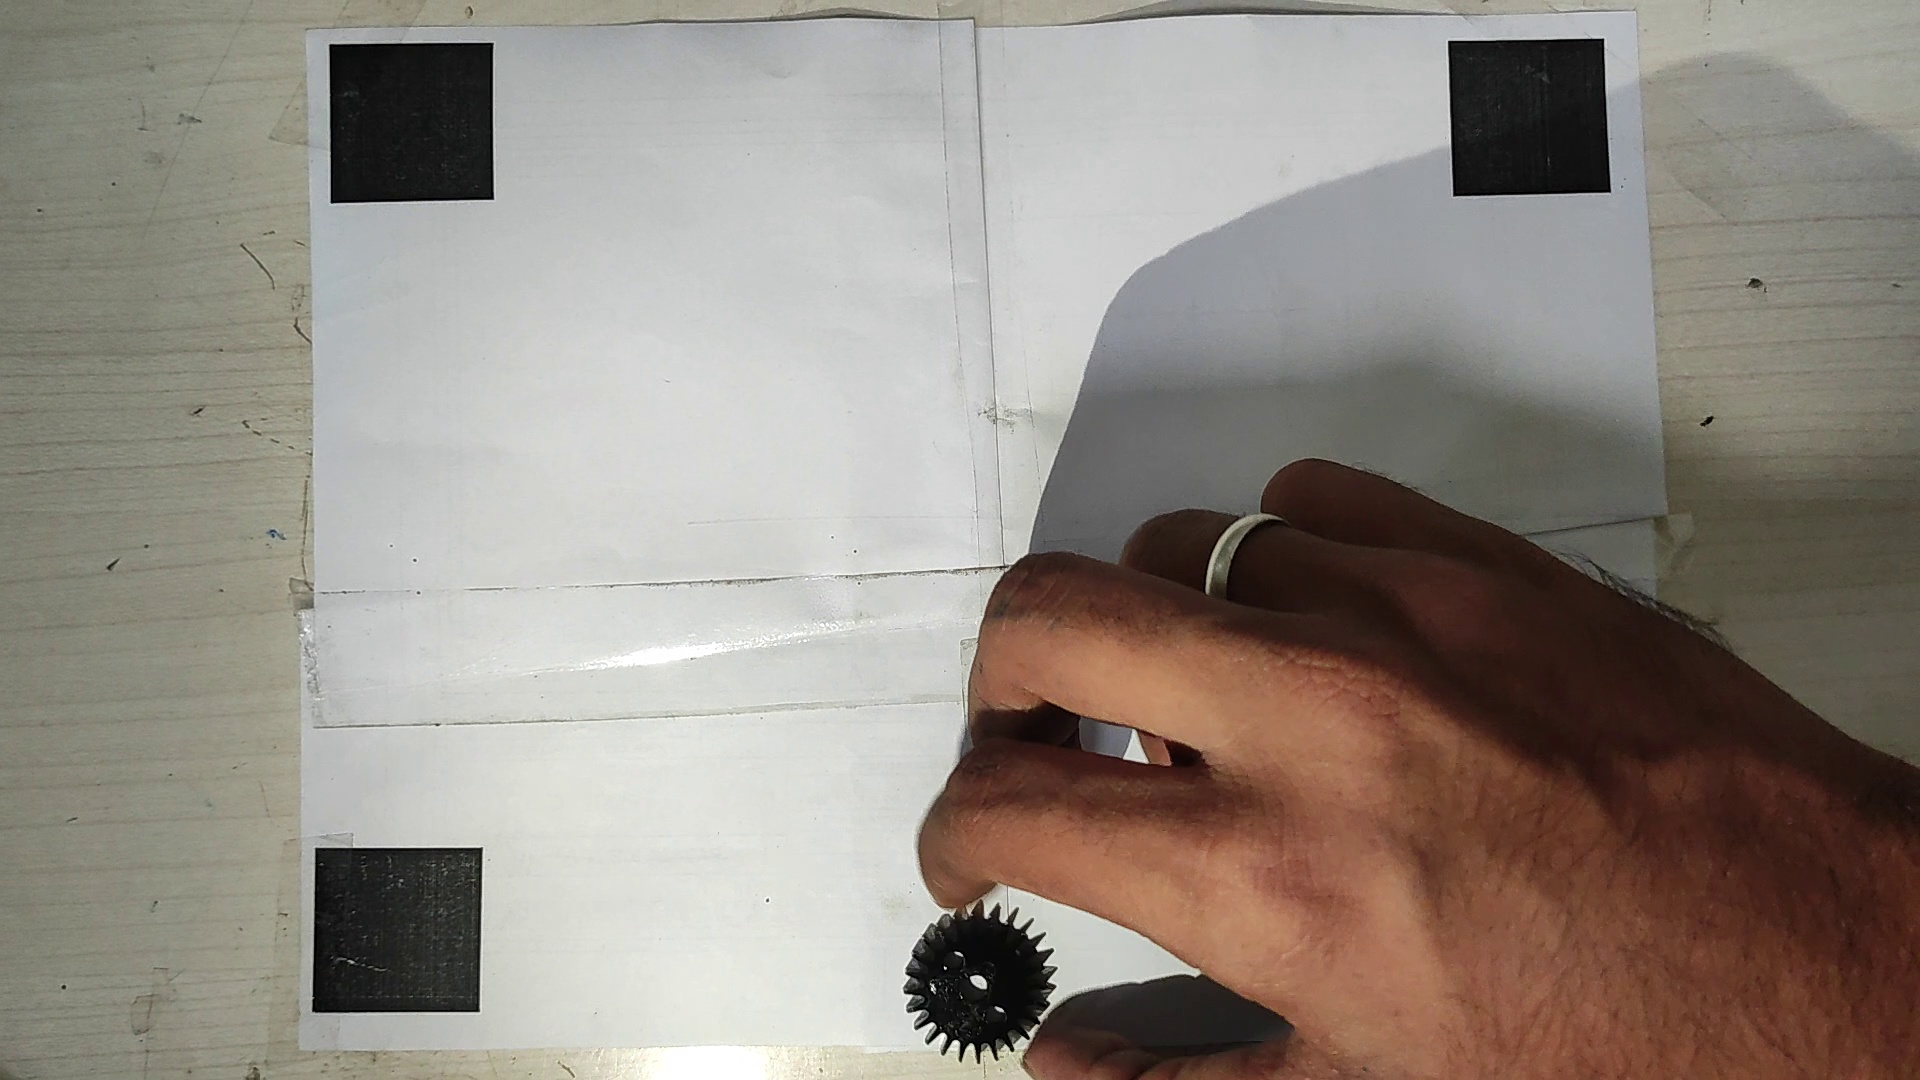Gear: (898, 902, 1053, 1061)
